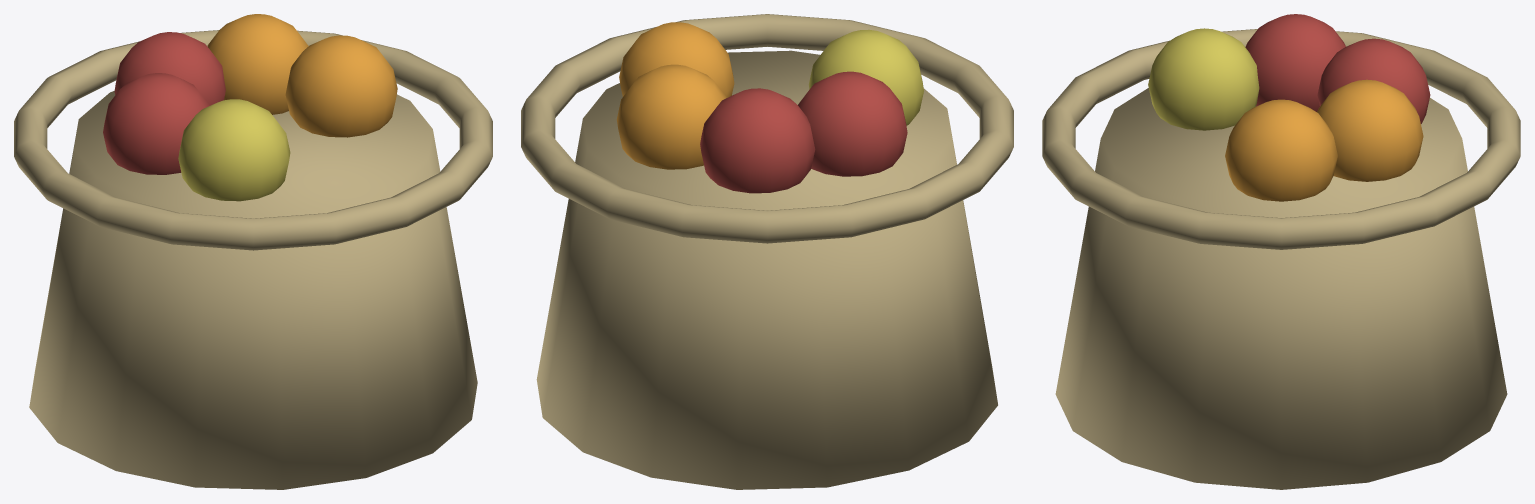
Rendered from prop_kago_basket.glb.
3 renders of one model, left to right at view 1: azimuth 30°, elevation 25°; view 2: azimuth 150°, elevation 25°; view 3: azimuth 270°, elevation 25°, orthographic. The views are drawn at different scales.
Visible parts, largest first — view 1: kago_basket; view 2: kago_basket; view 3: kago_basket.
Boxes of the visible parts, x1=… form: kago_basket: x1=14, y1=14, x2=492, y2=489; kago_basket: x1=521, y1=14, x2=1013, y2=489; kago_basket: x1=1042, y1=14, x2=1520, y2=489.
Bounding box in the file's own units: 0.86 × 0.65 × 0.8469.
